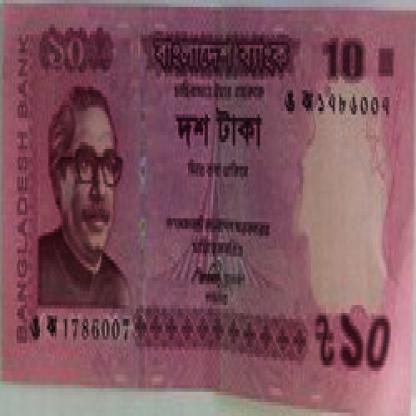Ten Taka: (338, 298, 392, 381), (316, 31, 374, 83), (41, 24, 90, 80)
